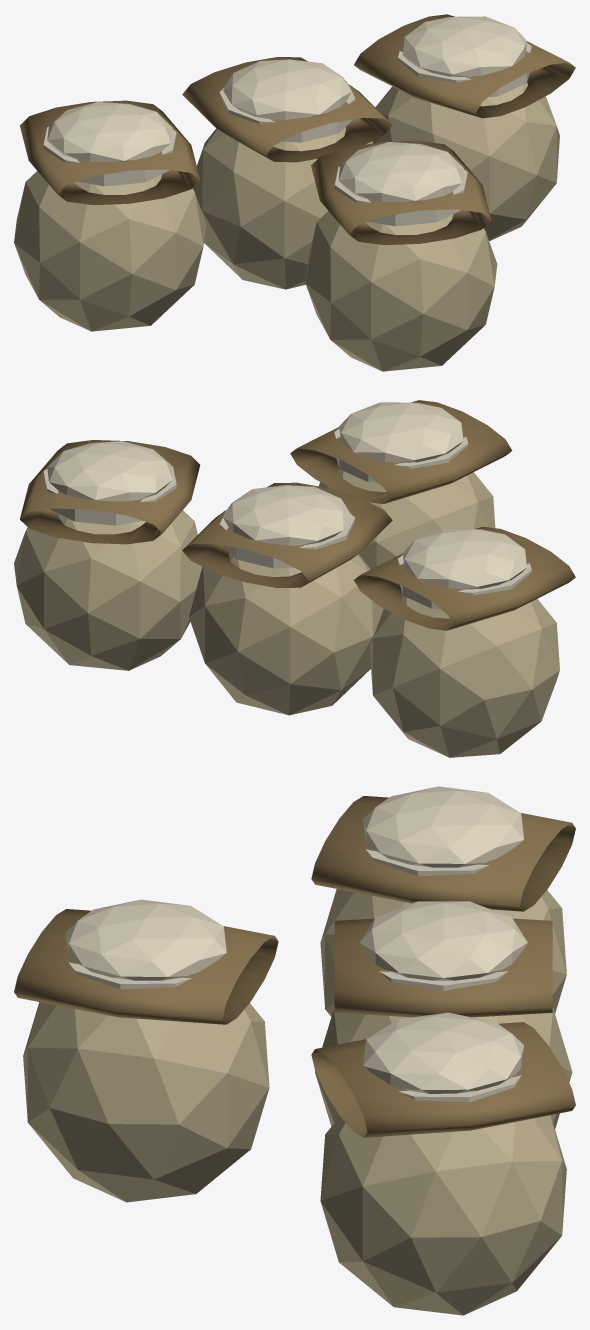
Rendered from pile-flour-4.gltf.
3 renders of one model, top to bottom at view 1: azimuth 30°, elevation 25°; view 2: azimuth 150°, elevation 25°; view 3: azimuth 270°, elevation 25°, orthographic. The views are drawn at different scales.
Parts seen in each view (by area): view 1: pile-flour-4; view 2: pile-flour-4; view 3: pile-flour-4.
Boxes of the visible parts, <box> form: pile-flour-4: <box>14,14,575,371</box>; pile-flour-4: <box>14,400,575,757</box>; pile-flour-4: <box>14,786,575,1315</box>.
Bounding box in the file's own units: 0.7915 × 0.3065 × 0.567.
